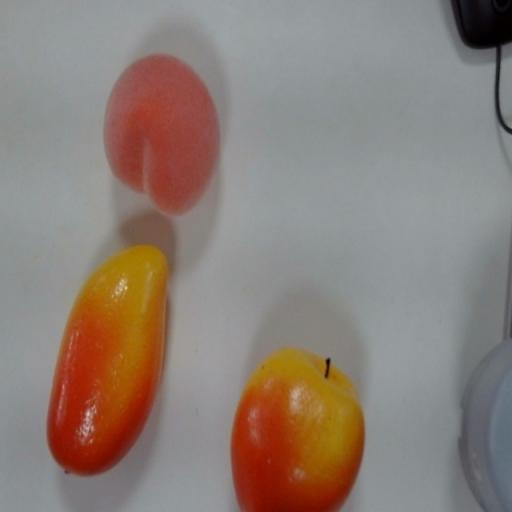Ripe: (44, 242, 172, 485), (227, 343, 369, 512), (100, 50, 220, 219)
